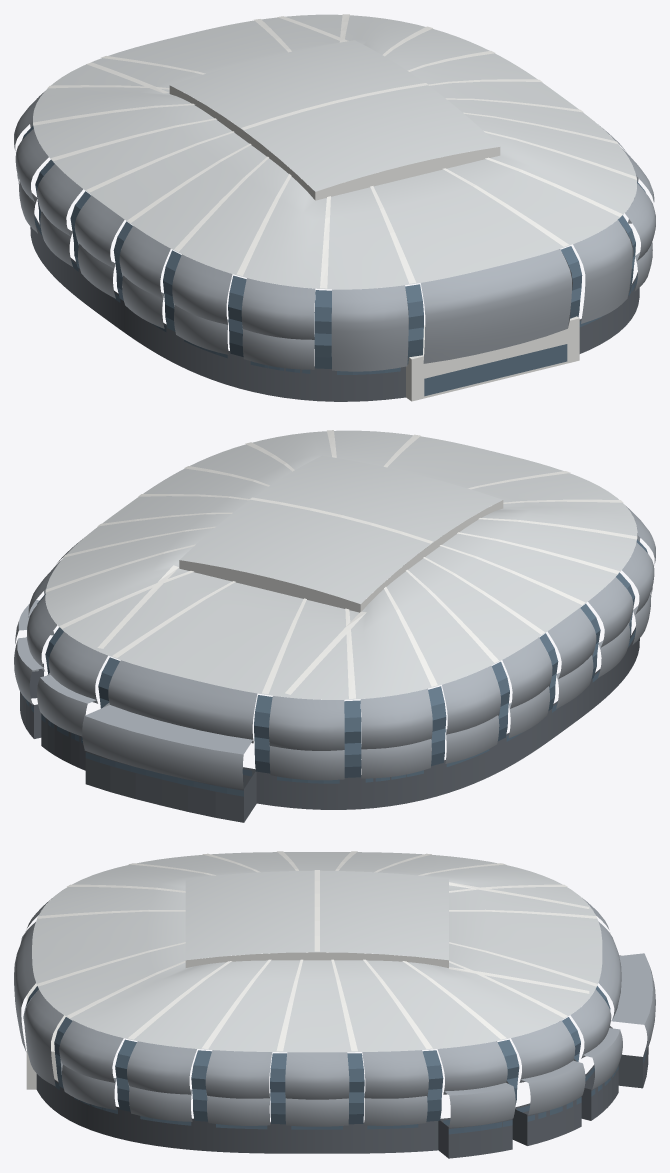
Rendered from phx-state-farm-stadium.glb.
The picture shows the model from 3 angles, top to bottom: view 1: azimuth 30°, elevation 25°; view 2: azimuth 150°, elevation 25°; view 3: azimuth 270°, elevation 25°; orthographic projection. The views are drawn at different scales.
Parts seen in each view (by area): view 1: State Farm Stadium; view 2: State Farm Stadium; view 3: State Farm Stadium.
Boxes of the visible parts, <box> form: State Farm Stadium: <box>14,14,655,401</box>; State Farm Stadium: <box>14,430,655,822</box>; State Farm Stadium: <box>14,851,655,1158</box>.
Size of the model in its own units: 234 by 73.35 by 293.
